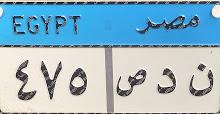3: (14, 60, 37, 102)
5: (65, 65, 94, 99)
7: (40, 60, 66, 101)
daal: (155, 68, 180, 95)
noon: (184, 63, 216, 99)
saad: (115, 65, 149, 99)
